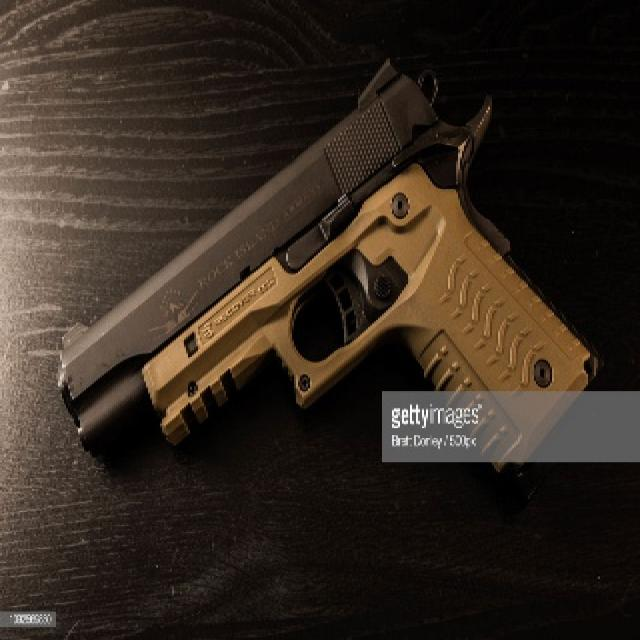handgun: (48, 47, 606, 468)
